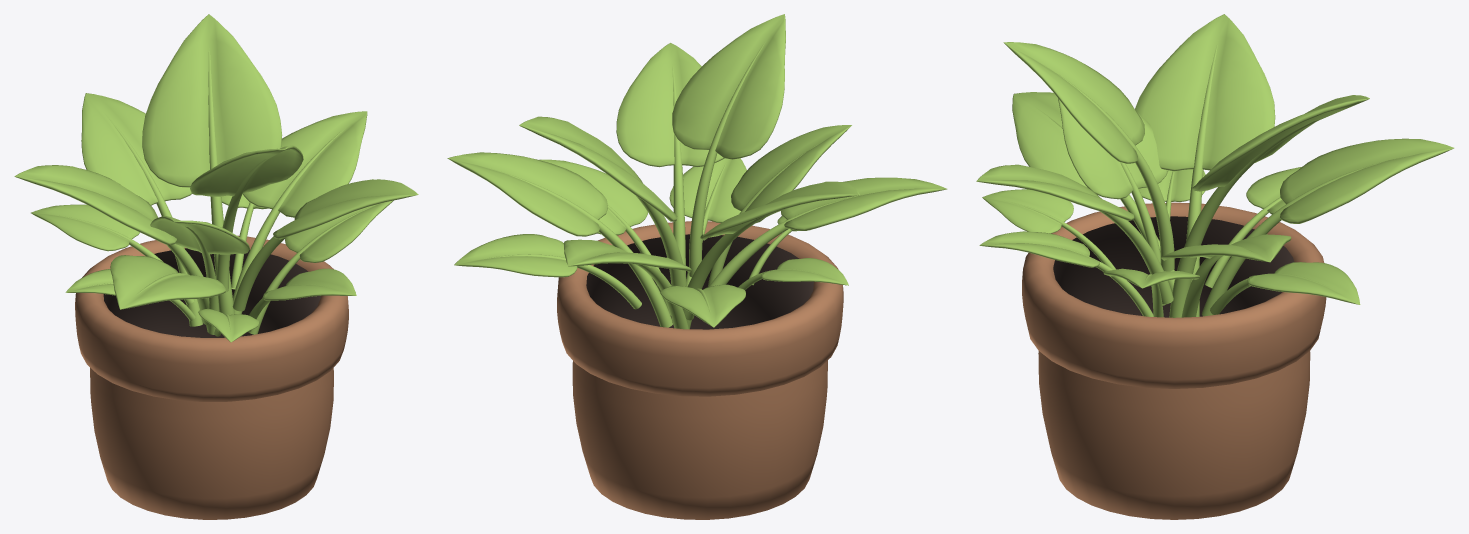
File: Pflanze.fbx
The picture shows the model from 3 angles, left to right: view 1: azimuth 30°, elevation 25°; view 2: azimuth 150°, elevation 25°; view 3: azimuth 270°, elevation 25°; orthographic projection. The views are drawn at different scales.
Parts seen in each view (by area): view 1: Pflanze; view 2: Pflanze; view 3: Pflanze.
Boxes of the visible parts, x1,y1,x2,y2 form: Pflanze: (14,14,418,519); Pflanze: (447,14,947,519); Pflanze: (976,14,1454,519).
Size of the model in its own units: 351 by 344 by 350.
